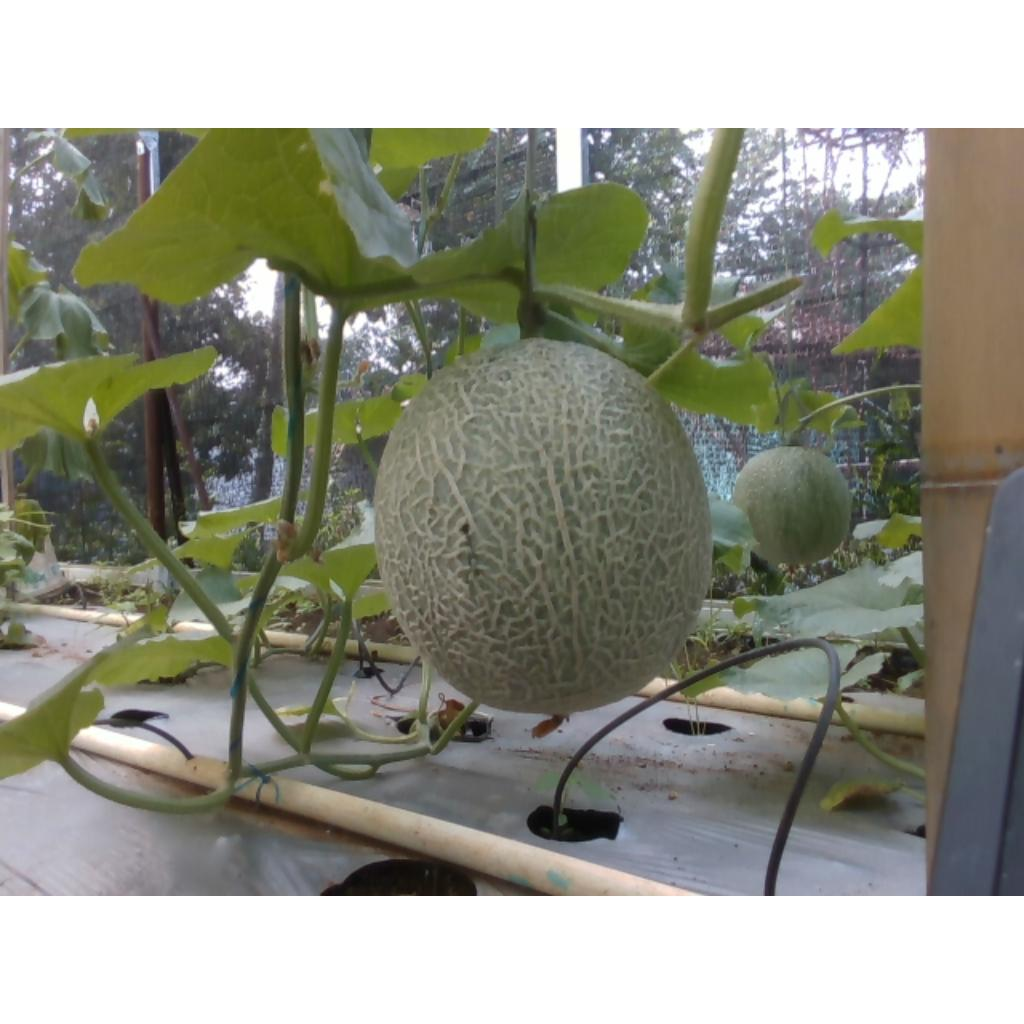melon: (376, 338, 712, 714)
